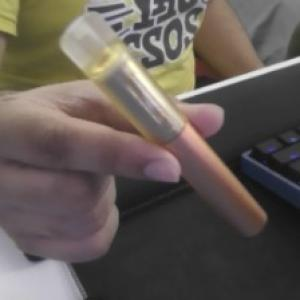Golden-E-Ciggirate: (58, 9, 268, 243)
